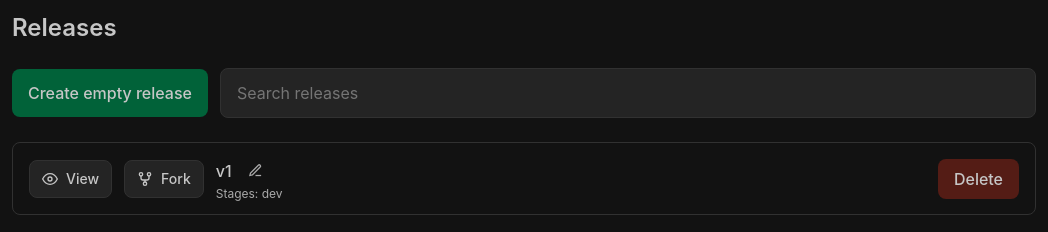
ObjectOverviewPage › shows empty state when no releases match search
Check: the text "v1" is shown, box [216, 158, 232, 182]
Type "zzz-not-found" into the field with placeholder "Search releases" at coordinates (628, 93), box [220, 68, 1036, 118]
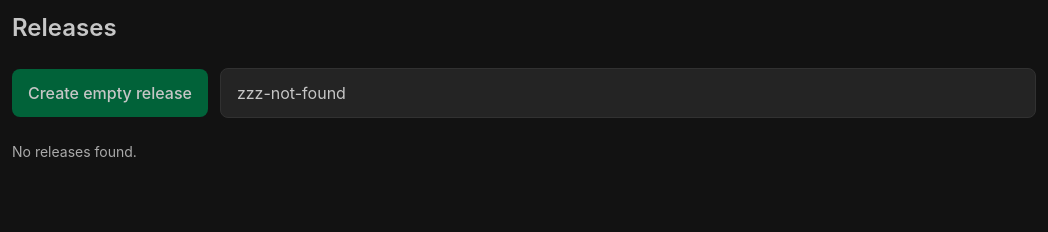
Check: the text "No releases found." is shown, box [12, 143, 137, 160]
